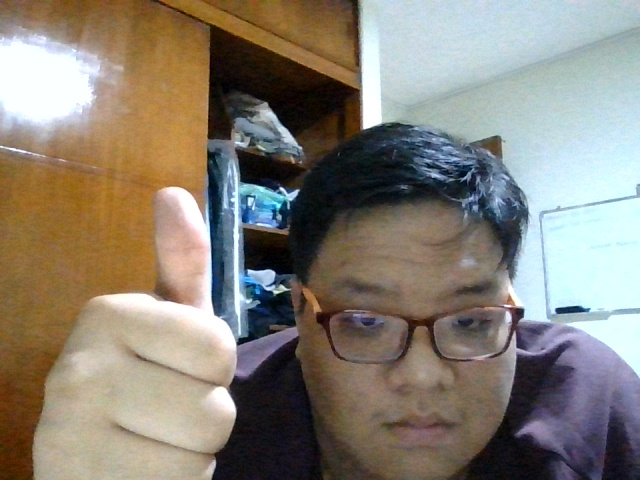si: (23, 187, 251, 479)
